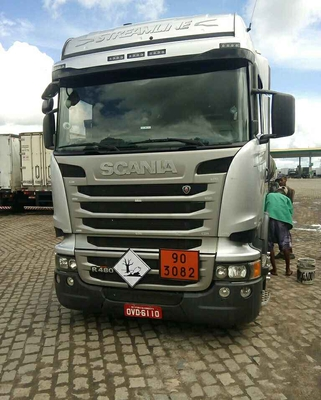Frontal Caminhao: (41, 16, 267, 327)
